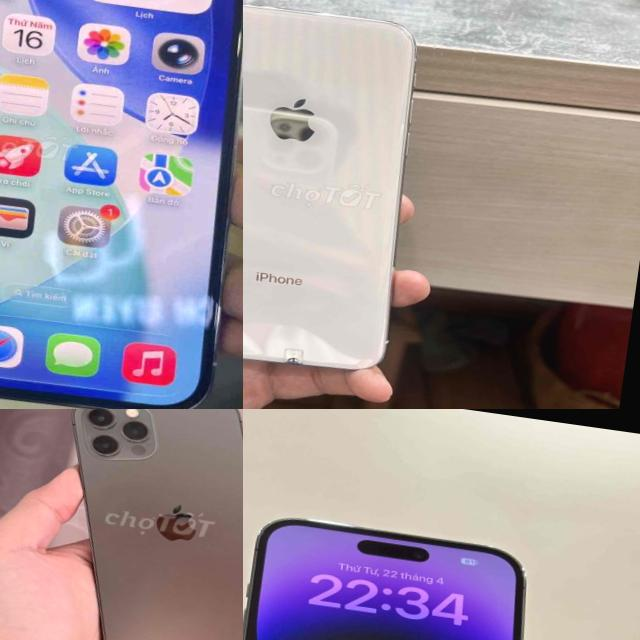gen_12_13: (0, 0, 243, 409), (38, 409, 243, 640)
gen_14: (243, 495, 579, 640)
gen_x_xs: (243, 4, 416, 369)
